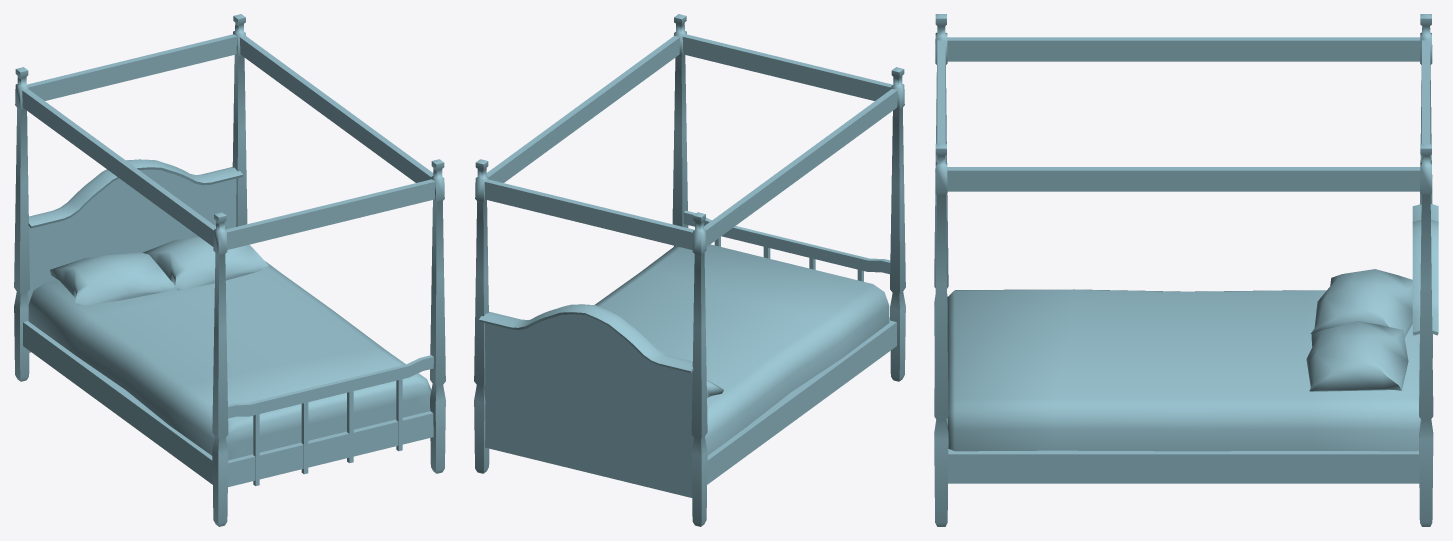
The model's file is lo_Prop_Bed_B.fbx.
3 views of the same model, side by side, from view 1: azimuth 30°, elevation 25°; view 2: azimuth 150°, elevation 25°; view 3: azimuth 270°, elevation 25° (orthographic). The views are drawn at different scales.
Parts seen in each view (by area): view 1: lo_Prop_Bed_B_LOD0; view 2: lo_Prop_Bed_B_LOD0; view 3: lo_Prop_Bed_B_LOD0.
Boxes of the visible parts, <box> form: lo_Prop_Bed_B_LOD0: <box>14,14,445,526</box>; lo_Prop_Bed_B_LOD0: <box>474,14,905,526</box>; lo_Prop_Bed_B_LOD0: <box>934,14,1438,526</box>.
Size of what is drawn, in the model's own units: 2.51 by 3.29 by 3.94.
